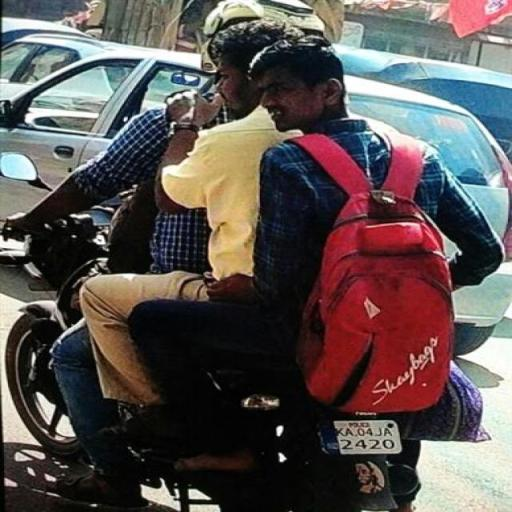tripple riding: (5, 3, 507, 371)
